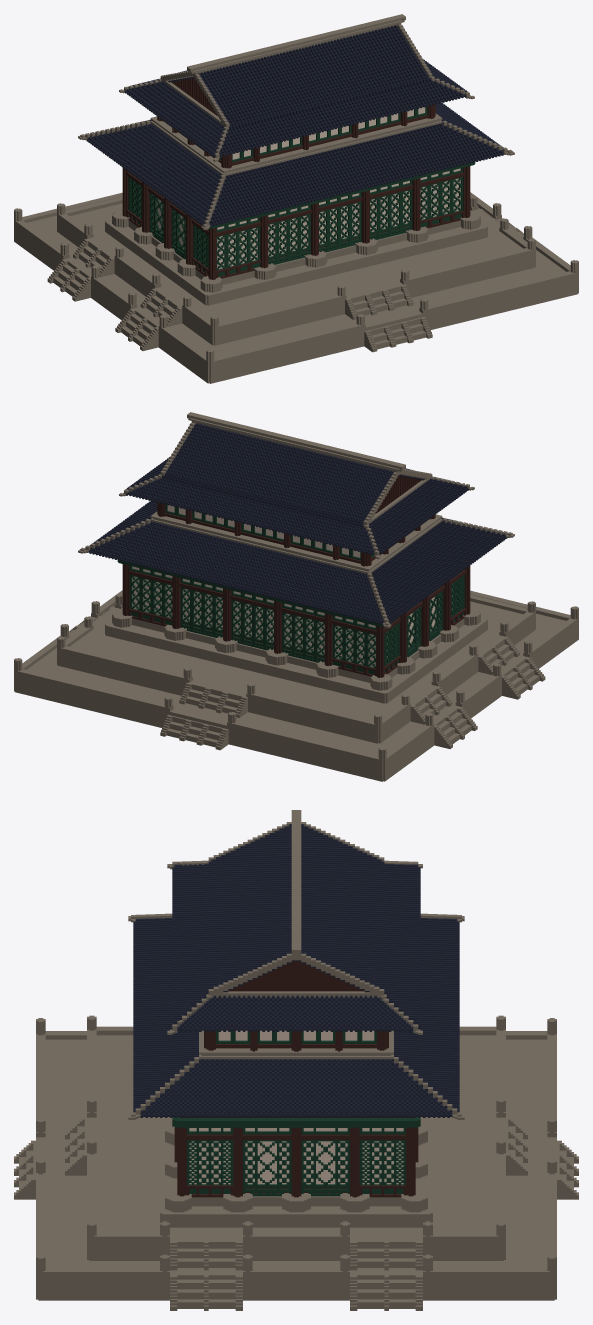
File: Korean castle_house_04.FBX
3 views of the same model, one above another, from view 1: azimuth 30°, elevation 25°; view 2: azimuth 150°, elevation 25°; view 3: azimuth 270°, elevation 25° (orthographic). The views are drawn at different scales.
Visible parts, largest first — view 1: Voxel_Korean_traditional castle-24; view 2: Voxel_Korean_traditional castle-24; view 3: Voxel_Korean_traditional castle-24.
Part boxes in pixels (left/top/right/bottom): Voxel_Korean_traditional castle-24: left=14, top=14, right=578, bottom=383; Voxel_Korean_traditional castle-24: left=14, top=412, right=578, bottom=781; Voxel_Korean_traditional castle-24: left=14, top=810, right=578, bottom=1310.
Bounding box in the file's own units: 508 × 272 × 464.
1 material, 1 textured.
